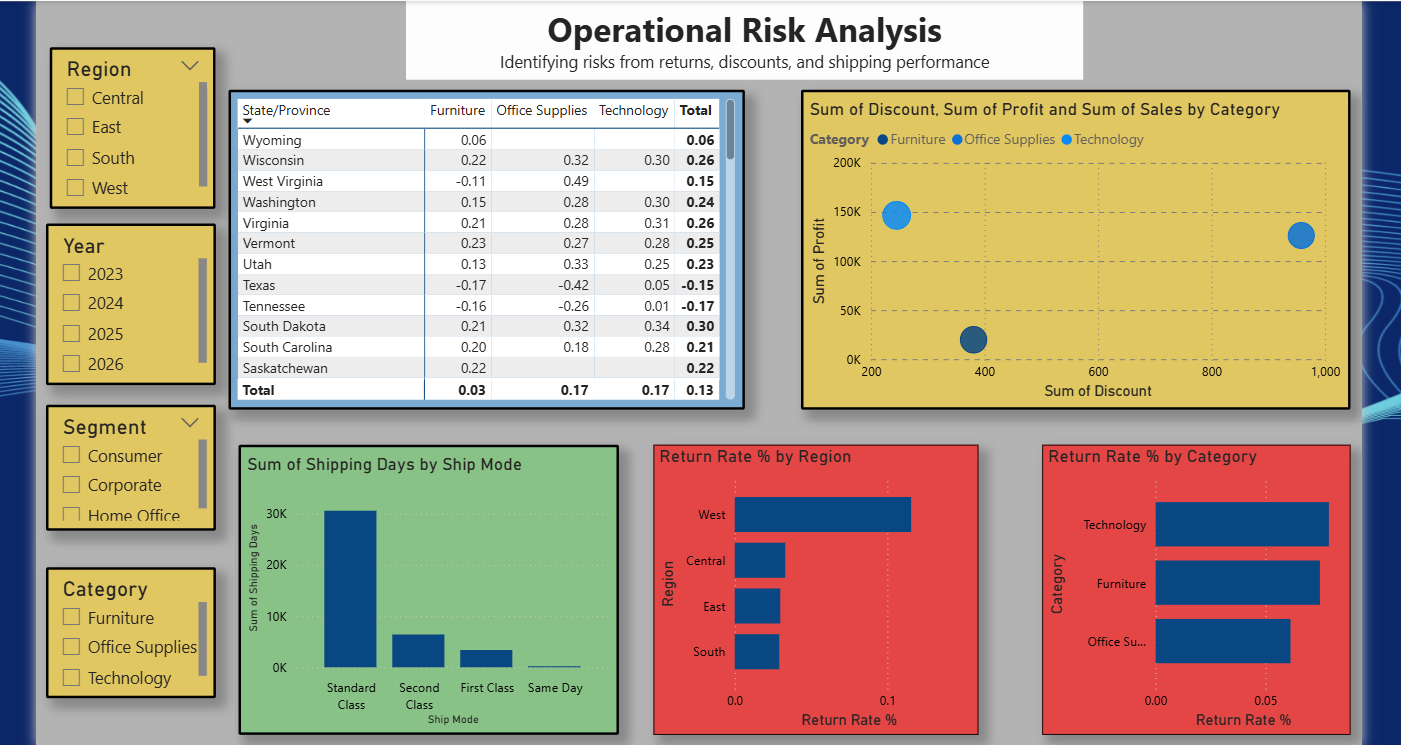

The page's visual inventory and layout, read from the dashboard file:
{"tool":"powerbi","page":{"name":"Operational Risk","canvas":[1280,720],"ordinal":2},"visuals":[{"type":"barChart","fields":{"Category":["Orders.Category"],"Y":["Returns.Return Rate %"]},"box":[971.2,428.8,297.5,280],"z":0},{"type":"barChart","fields":{"Category":["Orders.Region"],"Y":["Returns.Return Rate %"]},"box":[596.2,428.8,313.8,280],"z":1000},{"type":"clusteredColumnChart","fields":{"Category":["Orders.Ship Mode"],"Y":["Sum(Orders.Shipping Days)"]},"box":[195,428.8,367.5,280],"z":2000},{"type":"scatterChart","fields":{"X":["Sum(Orders.Discount)"],"Y":["Sum(Orders.Profit)"],"Size":["Sum(Orders.Sales)"],"Series":["Orders.Category"]},"box":[738.8,86.2,530,308.8],"z":3000},{"type":"pivotTable","fields":{"Rows":["Orders.State/Province"],"Columns":["Orders.Category"],"Values":["Orders.Profit Margin %"]},"box":[186.2,86.2,498.8,308.8],"z":4000},{"type":"slicer","fields":{"Values":["People.Region"]},"box":[13.8,45,160,156.2],"z":5000},{"type":"slicer","fields":{"Values":["Orders.Segment"]},"box":[10,390,163.8,121.2],"z":6000},{"type":"slicer","fields":{"Values":["Orders.Category"]},"box":[10,546.2,163.8,126.2],"z":7000},{"type":"slicer","fields":{"Values":["Calendar.Year"]},"box":[10,215,163.8,156.2],"z":8000},{"type":"textbox","box":[357.5,0,653.8,76.2],"z":9000}]}

Visuals, with their boxes in screenshot pixels (x1, y1, x2, y2):
barChart - Orders.Category x Returns.Return Rate %: (1045, 442, 1359, 738)
barChart - Orders.Region x Returns.Return Rate %: (648, 442, 980, 738)
clusteredColumnChart - Orders.Ship Mode x Sum(Orders.Shipping Days): (224, 442, 613, 738)
scatterChart - Sum(Orders.Discount) x Sum(Orders.Profit): (799, 80, 1359, 407)
pivotTable - Orders.State/Province x Orders.Category: (215, 80, 742, 407)
slicer - People.Region: (33, 37, 202, 202)
slicer - Orders.Segment: (29, 401, 202, 529)
slicer - Orders.Category: (29, 566, 202, 700)
slicer - Calendar.Year: (29, 216, 202, 381)
textbox: (396, 0, 1087, 70)
